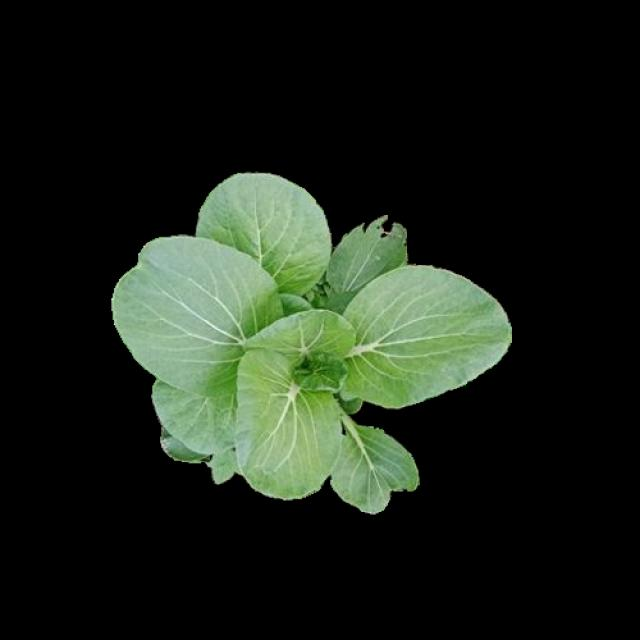not-mature: (114, 169, 518, 512)
unhealthy: (328, 215, 403, 307)
